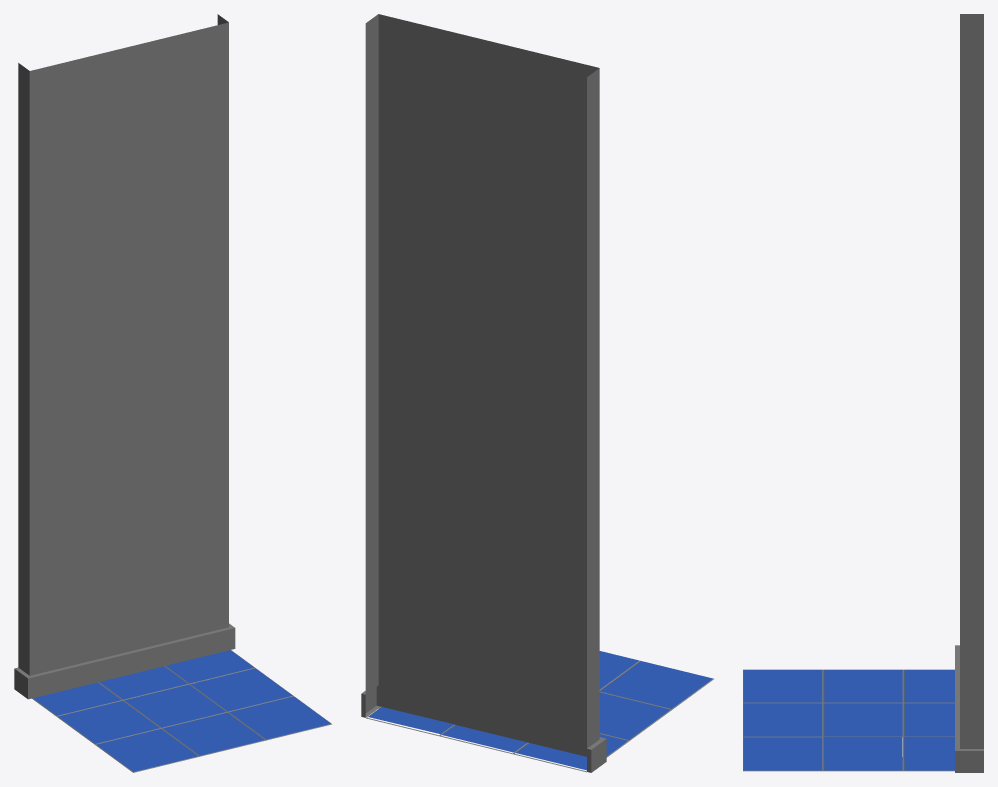
File: duzduvar.fbx
The picture shows the model from 3 angles, left to right: view 1: azimuth 30°, elevation 25°; view 2: azimuth 150°, elevation 25°; view 3: azimuth 270°, elevation 25°; orthographic projection. The views are drawn at different scales.
Parts seen in each view (by area): view 1: duzduvar, Plane001; view 2: duzduvar, Plane001; view 3: duzduvar, Plane001.
Part boxes in pixels (x1,y1,x2,y2): duzduvar: (14,14,330,771); Plane001: (32,650,331,772); duzduvar: (361,14,712,772); Plane001: (366,660,713,772); duzduvar: (744,14,983,772); Plane001: (743,669,954,771).
Size of the model in its own units: 104 by 300 by 100.
